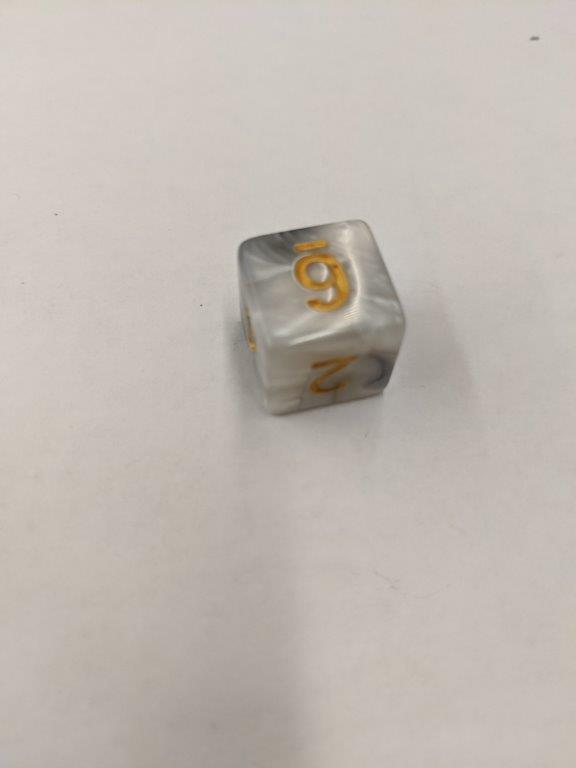d6-6: (239, 218, 406, 418)
